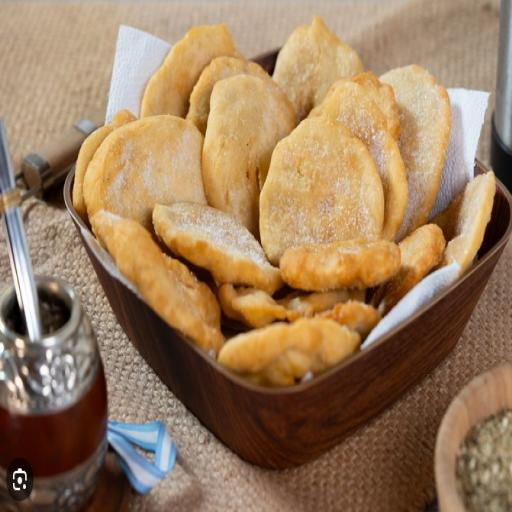bolleria: (92, 211, 224, 353), (260, 118, 384, 263), (310, 83, 408, 240), (203, 74, 295, 239), (83, 115, 206, 233), (380, 66, 451, 239), (153, 203, 283, 294), (273, 16, 363, 123), (218, 319, 360, 386), (280, 239, 401, 291), (379, 224, 445, 314)
mate: (0, 200, 107, 510)
